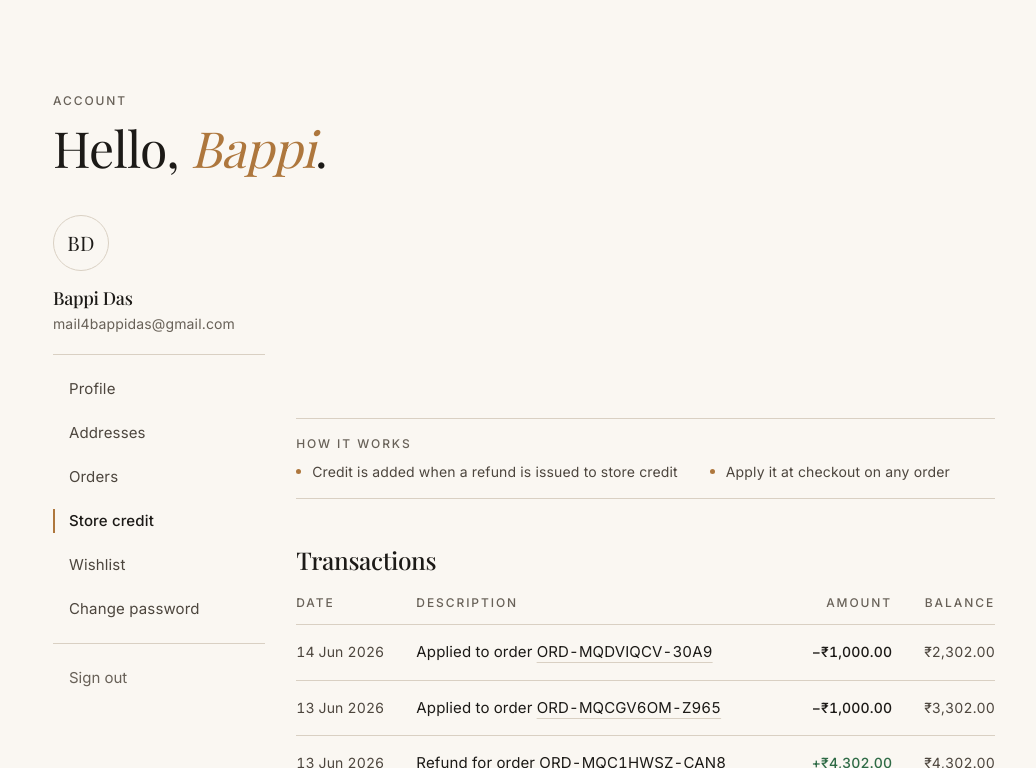
Scenario: the order link goes to Orders
This screenshot has width=1036, height=768.
Click the link "ORD-MQDVIQCV-30A9": (625, 652) [537,641,713,664]
(page scrolled)
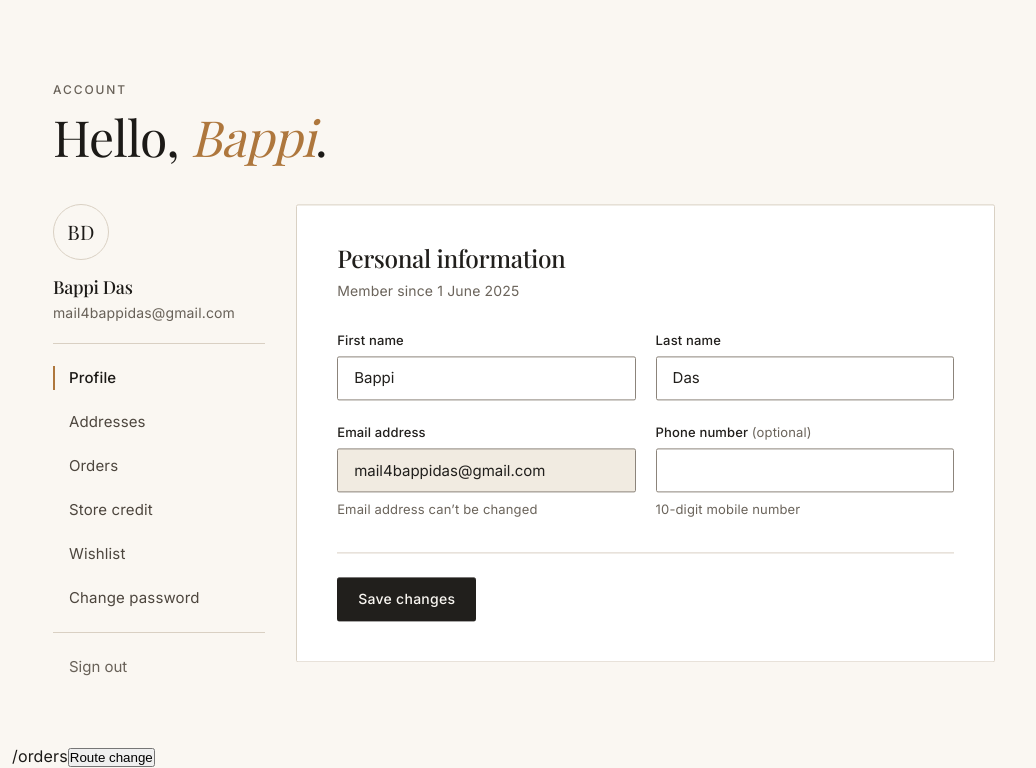
Expected: the text with test id "location" reads "/orders", [12,746,68,766]
